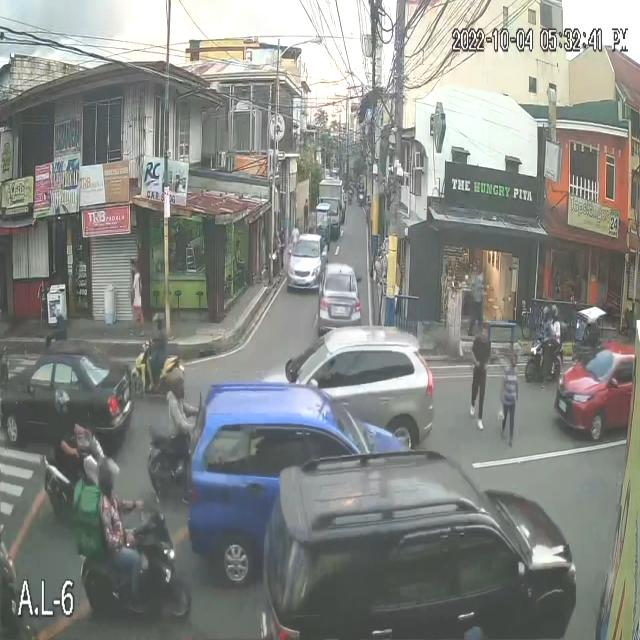Full-Faced: (52, 382, 75, 417), (164, 367, 188, 398), (541, 302, 551, 324), (547, 302, 559, 319)
Half-Faced: (93, 456, 123, 497), (151, 309, 169, 334)
